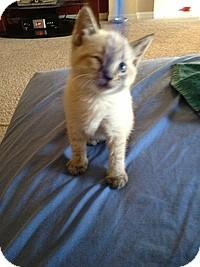siamese: (62, 5, 157, 101)
